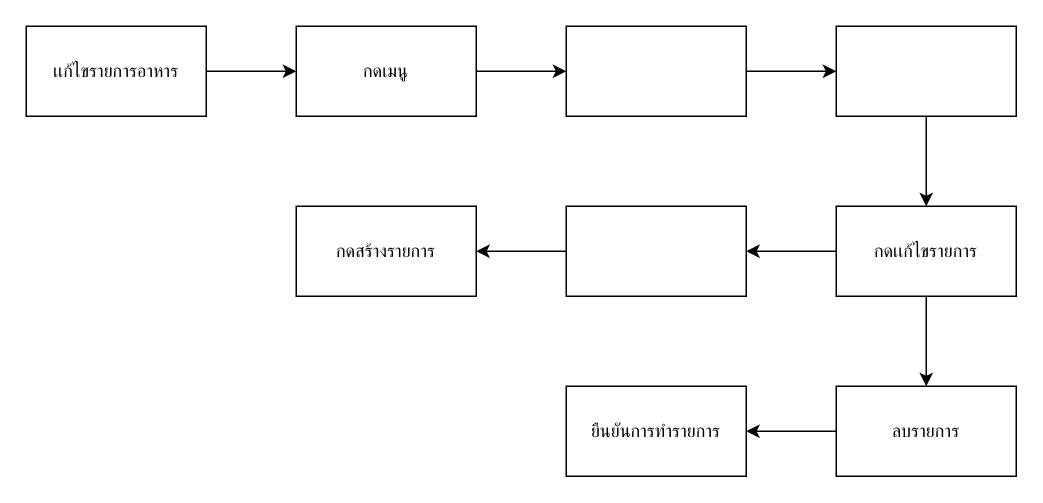
Some shapes in this 1043 by 503 pixel diagram are drawn without their labels. Each missing label, with the box of its shape:
กดตรวจสอบรายการ: (565, 205, 746, 296)
กดตั้งค่าเมนู: (565, 25, 746, 116)
รายหมวดหมู่หรือรายการที่ต้องการเเก้ไข: (835, 25, 1016, 116)
